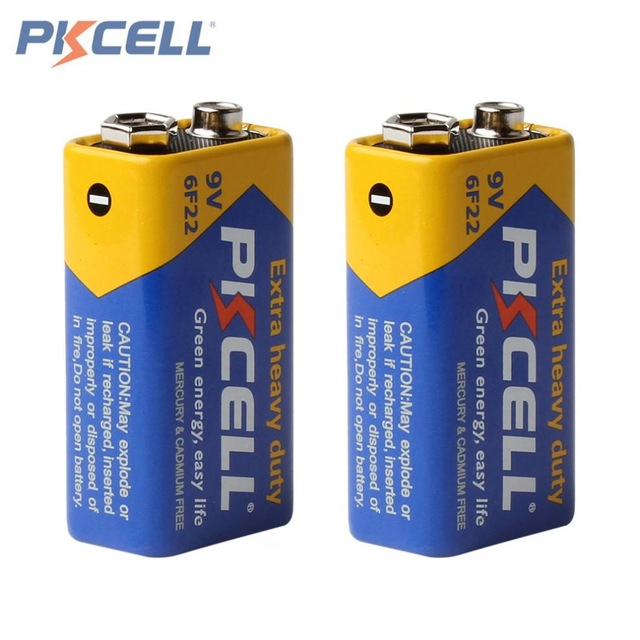9V: (337, 86, 597, 582), (54, 102, 310, 570)
